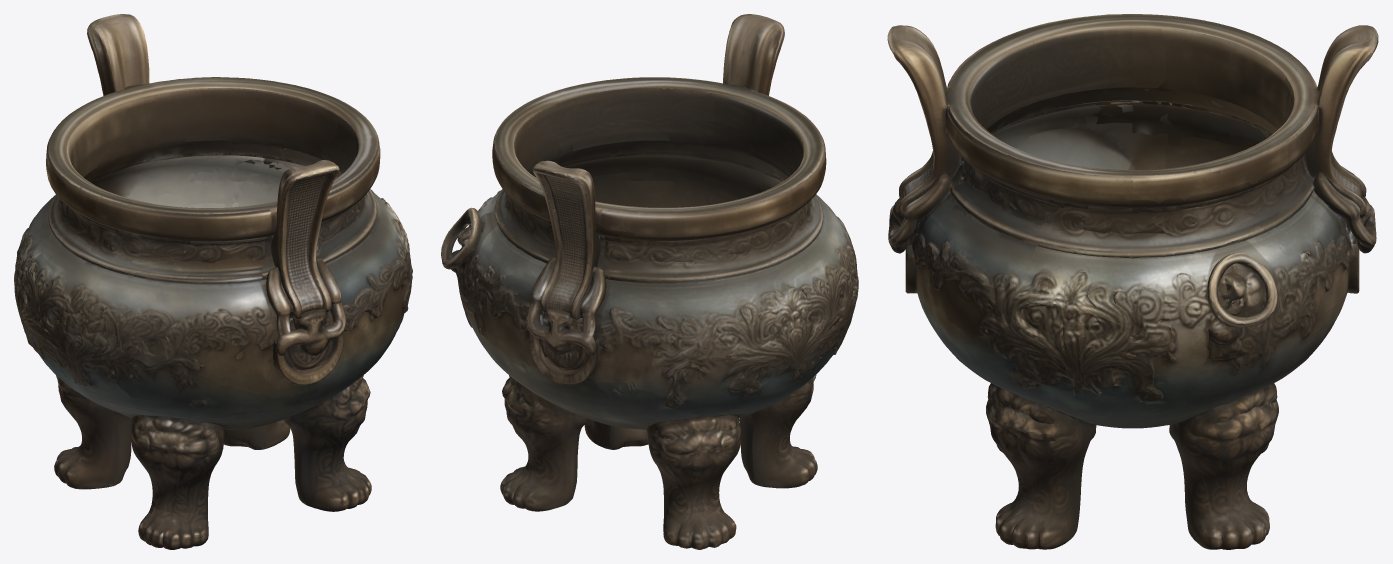
File: incense-burner.glb
3 renders of one model, left to right at view 1: azimuth 30°, elevation 25°; view 2: azimuth 150°, elevation 25°; view 3: azimuth 270°, elevation 25°, orthographic. The views are drawn at different scales.
Visible parts, largest first — view 1: geometry_0; view 2: geometry_0; view 3: geometry_0.
Boxes of the visible parts, bbox=[...] form: geometry_0: bbox=[14, 14, 412, 549]; geometry_0: bbox=[441, 14, 858, 549]; geometry_0: bbox=[887, 14, 1378, 549].
Bounding box in the file's own units: 0.2979 × 0.32 × 0.3121.
Materials: 1 (1 with a texture image).
